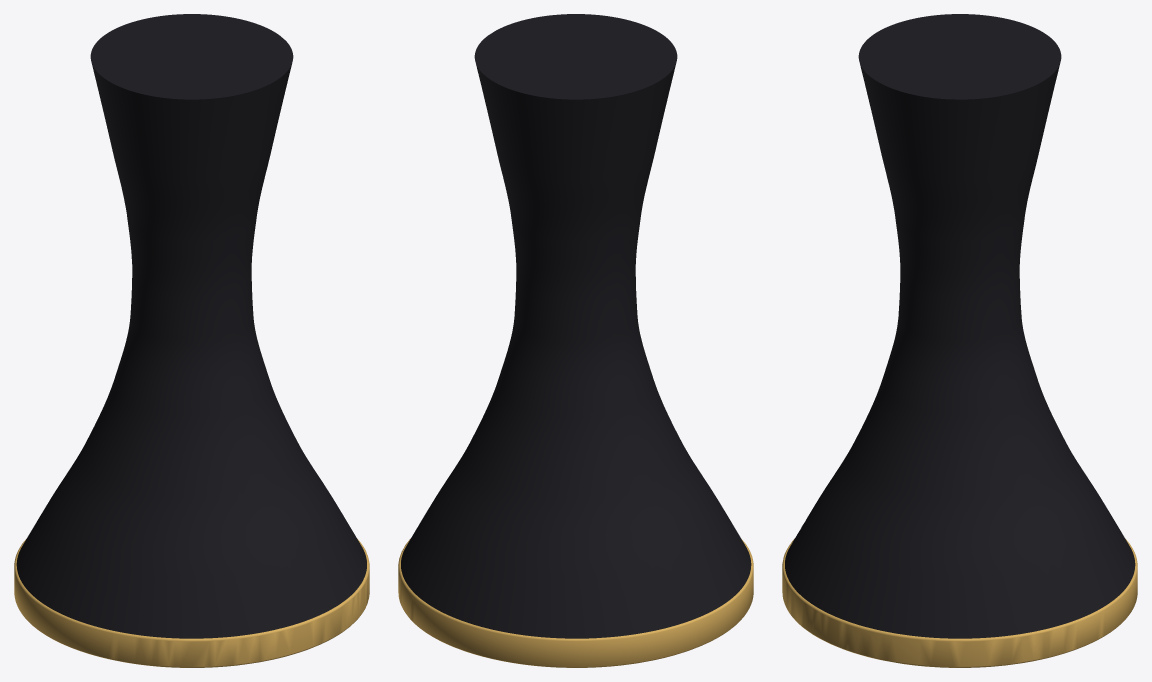
File: pawn-black-hd.glb
3 views of the same model, side by side, from view 1: azimuth 30°, elevation 25°; view 2: azimuth 150°, elevation 25°; view 3: azimuth 270°, elevation 25° (orthographic).
Parts seen in each view (by area): view 1: 01_pesec_telo_0, 01_pesec_podstavec; view 2: 01_pesec_telo_0, 01_pesec_podstavec; view 3: 01_pesec_telo_0, 01_pesec_podstavec.
Part boxes in pixels (left/top/right/bottom): 01_pesec_telo_0: left=16, top=14, right=366, bottom=638; 01_pesec_podstavec: left=14, top=538, right=369, bottom=667; 01_pesec_telo_0: left=401, top=14, right=751, bottom=638; 01_pesec_podstavec: left=398, top=538, right=753, bottom=667; 01_pesec_telo_0: left=785, top=14, right=1135, bottom=638; 01_pesec_podstavec: left=782, top=538, right=1137, bottom=667.
Bounding box in the file's own units: 0.6898 × 1.15 × 0.6898.
